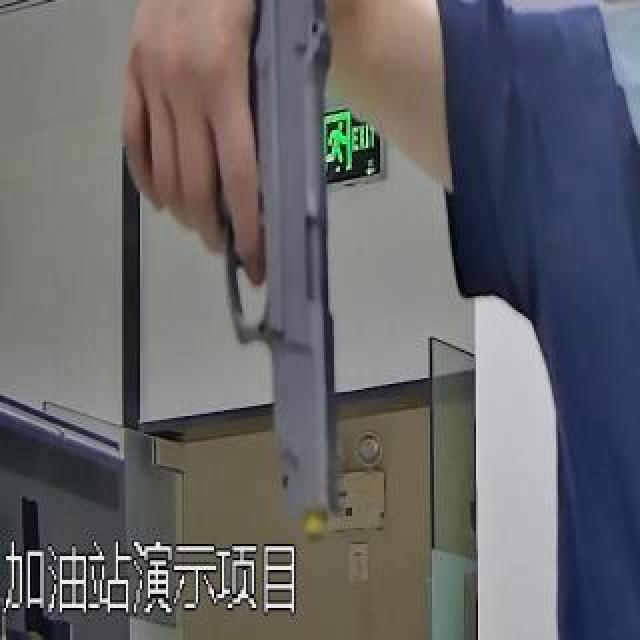Guns: (208, 0, 414, 532)
